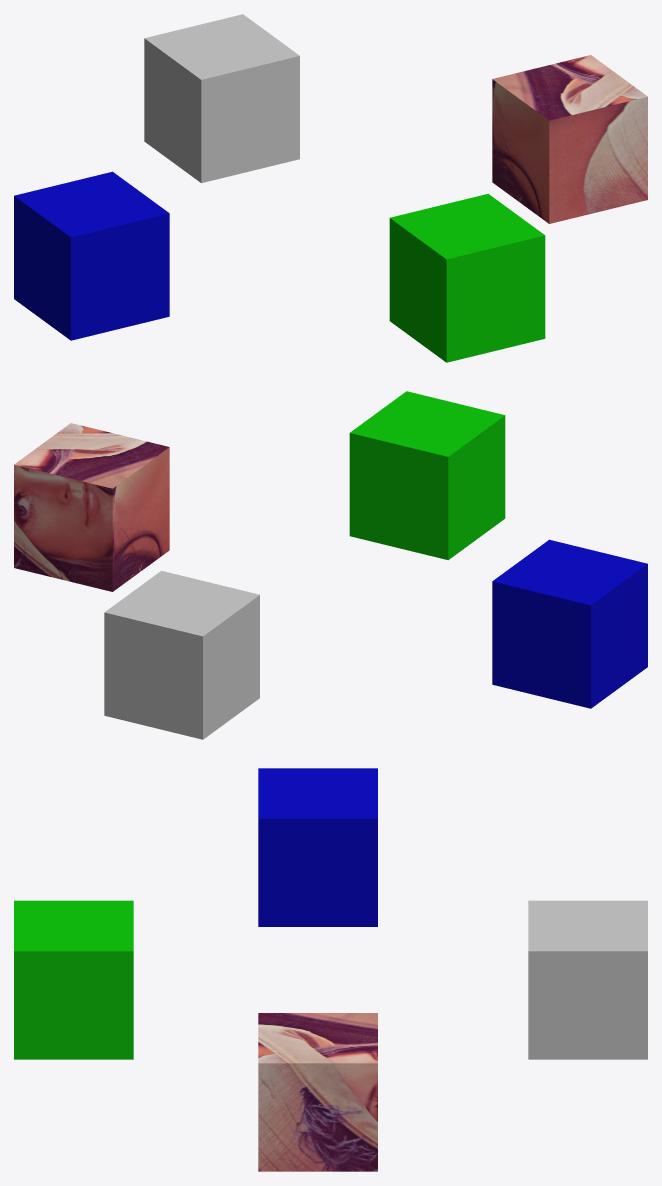
File: Cubes4.obj
The picture shows the model from 3 angles, top to bottom: view 1: azimuth 30°, elevation 25°; view 2: azimuth 150°, elevation 25°; view 3: azimuth 270°, elevation 25°; orthographic projection. The views are drawn at different scales.
Parts seen in each view (by area): view 1: Cube.002, Cube, Cube.003, Cube.004; view 2: Cube.002, Cube, Cube.003, Cube.004; view 3: Cube, Cube.002, Cube.003, Cube.004.
Boxes of the visible parts, x1,y1,x2,y2 form: Cube.002: [389, 193, 545, 362]; Cube: [144, 14, 299, 183]; Cube.003: [14, 171, 169, 340]; Cube.004: [492, 55, 647, 223]; Cube.002: [349, 391, 505, 560]; Cube: [104, 570, 259, 739]; Cube.003: [492, 539, 647, 708]; Cube.004: [14, 423, 169, 591]; Cube: [528, 900, 647, 1059]; Cube.002: [14, 900, 133, 1059]; Cube.003: [258, 768, 377, 926]; Cube.004: [258, 1013, 377, 1171].
Size of the model in its own units: 11.69 by 2 by 10.61.
